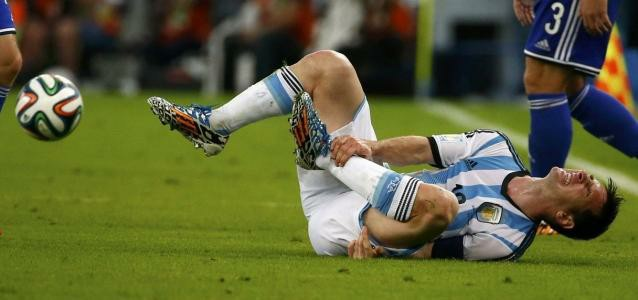fall: (147, 42, 628, 259)
